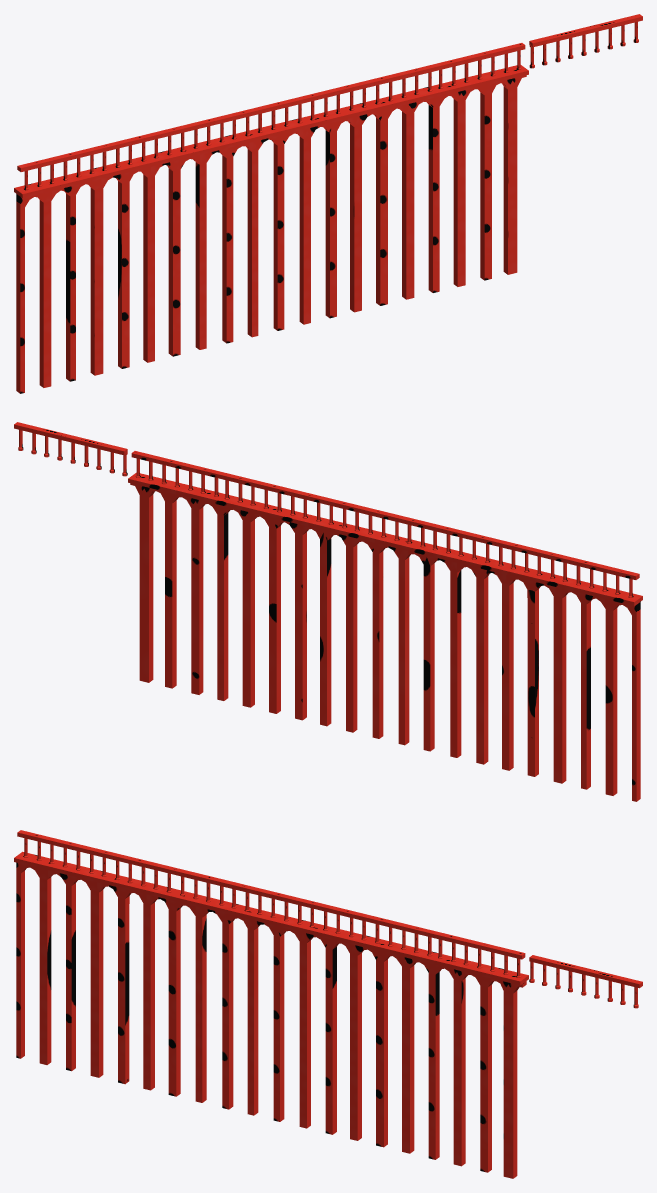
The picture shows the model from 3 angles, top to bottom: view 1: azimuth 30°, elevation 25°; view 2: azimuth 150°, elevation 25°; view 3: azimuth 330°, elevation 25°; orthographic projection.
Parts seen in each view (by area): view 1: 平面.016; view 2: 平面.016; view 3: 平面.016.
Part boxes in pixels (x1=…): 平面.016: x1=14, y1=14, x2=642, y2=393; 平面.016: x1=14, y1=422, x2=642, y2=801; 平面.016: x1=14, y1=830, x2=642, y2=1178.
Size of the model in its own units: 16053 by 5542 by 382.
